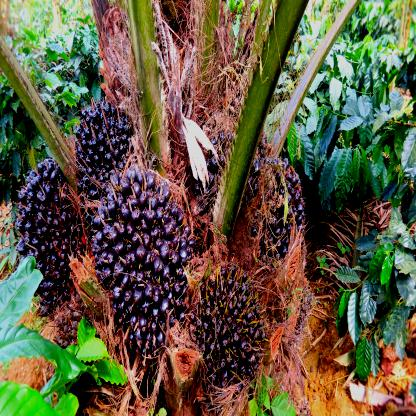palm-oil: (93, 160, 197, 364), (16, 155, 82, 308), (190, 257, 263, 392), (198, 115, 259, 222), (251, 157, 307, 264), (75, 99, 138, 183)
